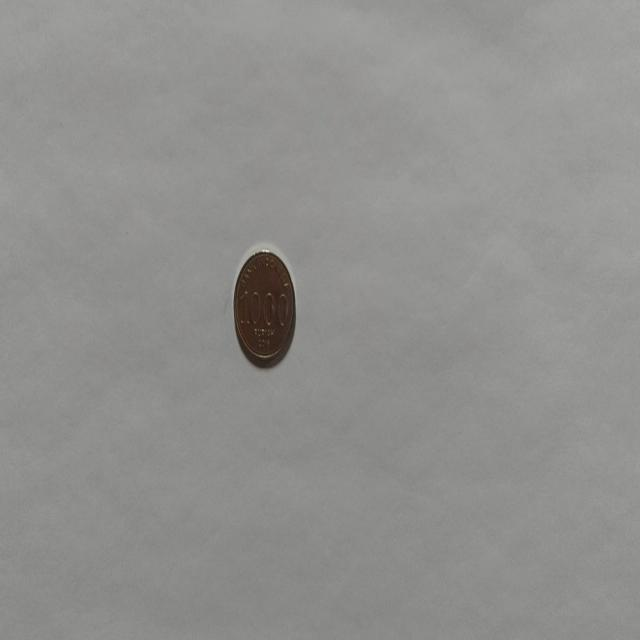seribu rupiah koin: (232, 246, 296, 368)
